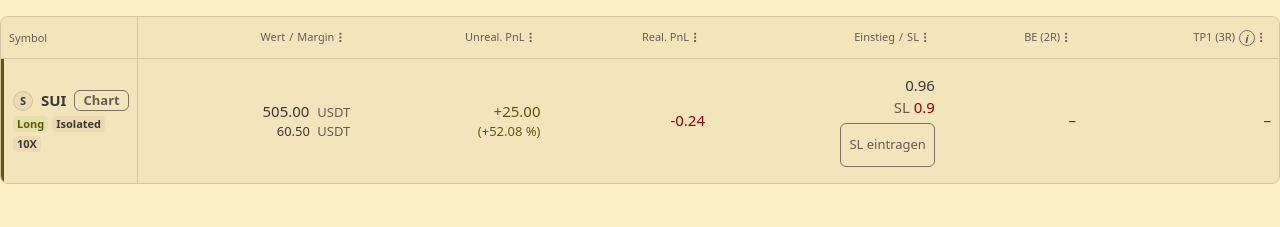
Ursprünglichen SL eintragen: Eingabe › zeigt "Backend nicht erreichbar" bei Netzwerkfehler
The width and height of the screenshot is (1280, 227).
Click the button "SL eintragen". click: (888, 144)
box: [840,122,935,166]
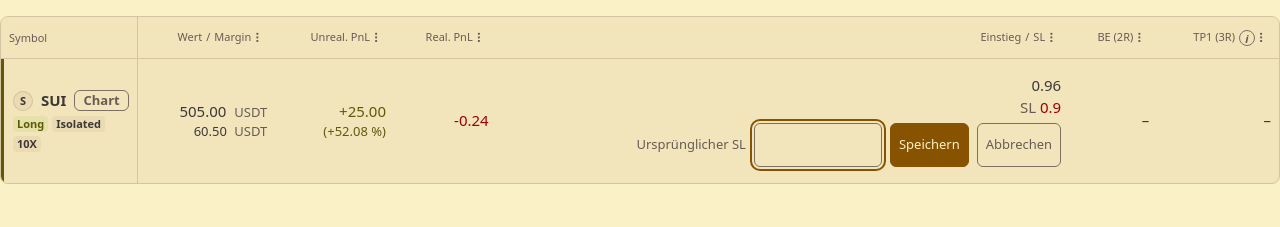
Type "0.9" into the field labelled "Ursprünglicher SL". click: (818, 144)
box: [754,122,882,166]
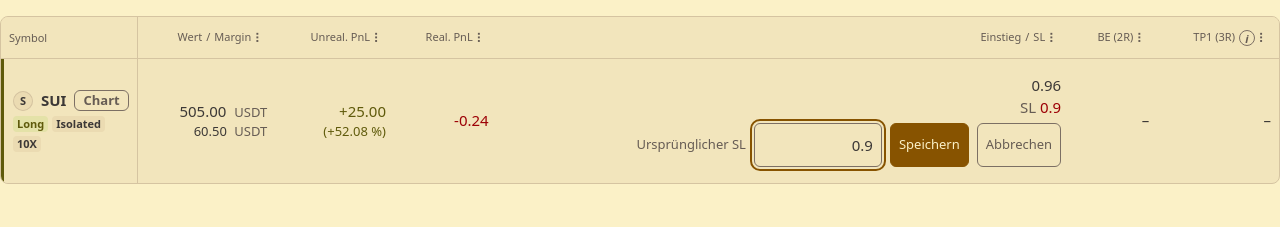
Click the button "Speichern". click: (929, 144)
box: [890,122,969,166]
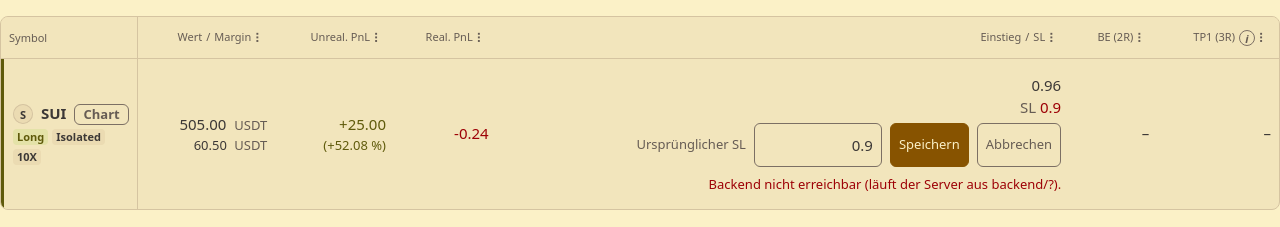
Check: the message shows "nicht erreichbar", box [709,174,1061,192]
